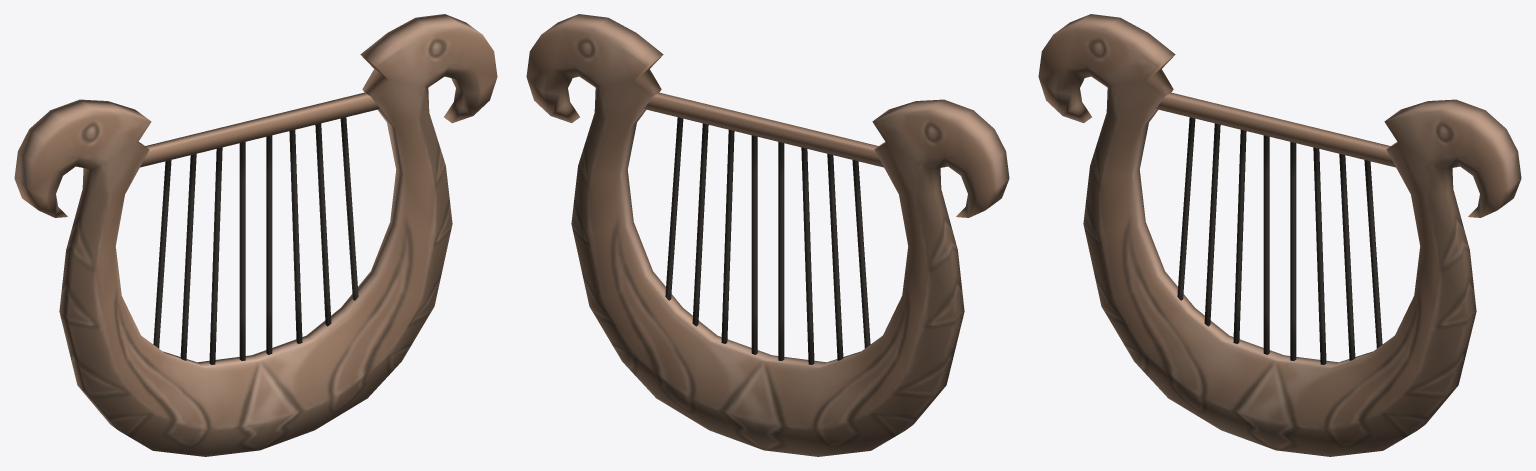
The model's file is harpa.fbx.
3 views of the same model, side by side, from view 1: azimuth 30°, elevation 25°; view 2: azimuth 150°, elevation 25°; view 3: azimuth 330°, elevation 25° (orthographic).
Visible parts, largest first — view 1: mesh_harp; view 2: mesh_harp; view 3: mesh_harp.
Boxes of the visible parts, x1,y1,x2,y2 form: mesh_harp: (14, 14, 497, 456); mesh_harp: (526, 14, 1009, 456); mesh_harp: (1038, 14, 1521, 456).
Bounding box in the file's own units: 37.07 × 29.06 × 4.11.
1 material, 1 textured.
